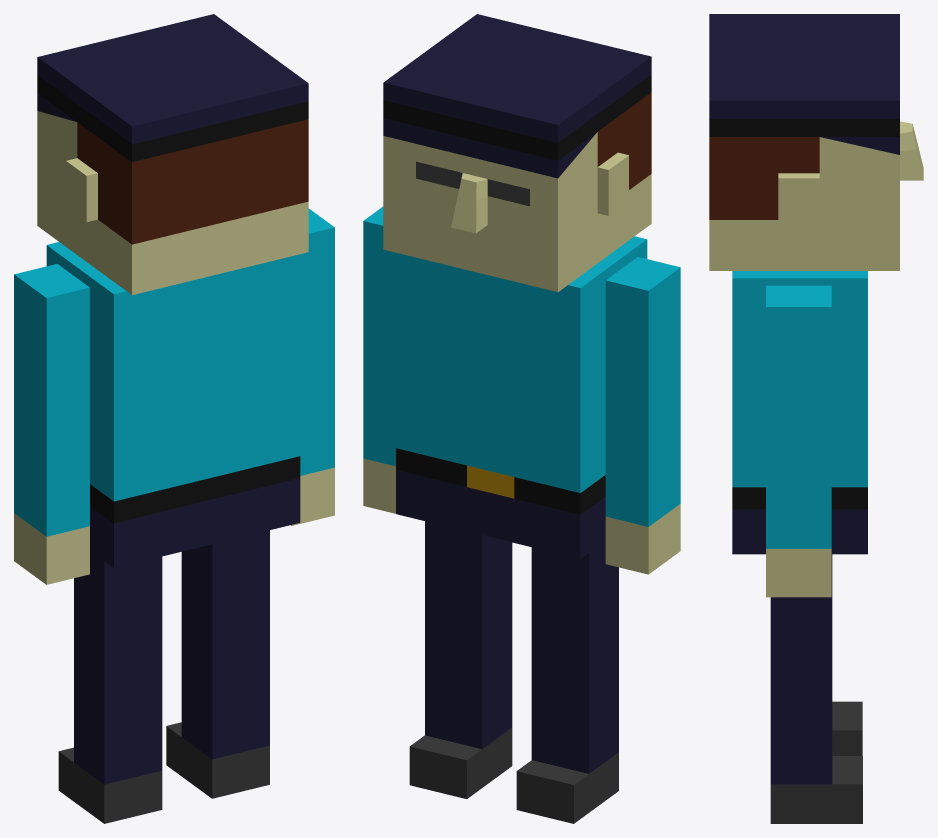
File: policeman.fbx
3 views of the same model, side by side, from view 1: azimuth 30°, elevation 25°; view 2: azimuth 150°, elevation 25°; view 3: azimuth 270°, elevation 25° (orthographic).
Visible parts, largest first — view 1: Cube.001, Cube.006, Cube.003, Cube.005, Cube.004, Cube.002; view 2: Cube.001, Cube.006, Cube.005, Cube.004, Cube.003, Cube.002; view 3: Cube.001, Cube.006, Cube.002, Cube.004, Cube.005.
Part boxes in pixels (box(x1,y1,x2,y2)): Cube.001: box(37, 14, 308, 294); Cube.006: box(46, 242, 300, 567); Cube.003: box(14, 264, 89, 584); Cube.005: box(58, 551, 162, 823); Cube.004: box(166, 530, 269, 798); Cube.002: box(291, 208, 334, 525); Cube.001: box(383, 14, 651, 291); Cube.006: box(396, 236, 647, 558); Cube.005: box(516, 541, 618, 823); Cube.004: box(409, 521, 512, 798); Cube.003: box(605, 257, 680, 574); Cube.002: box(363, 206, 395, 513); Cube.001: box(709, 14, 923, 270); Cube.006: box(732, 271, 867, 554); Cube.002: box(766, 285, 831, 597); Cube.004: box(770, 554, 862, 823); Cube.005: box(832, 701, 862, 755).
Size of the model in its own units: 0.8236 by 1.97 by 0.5264.
